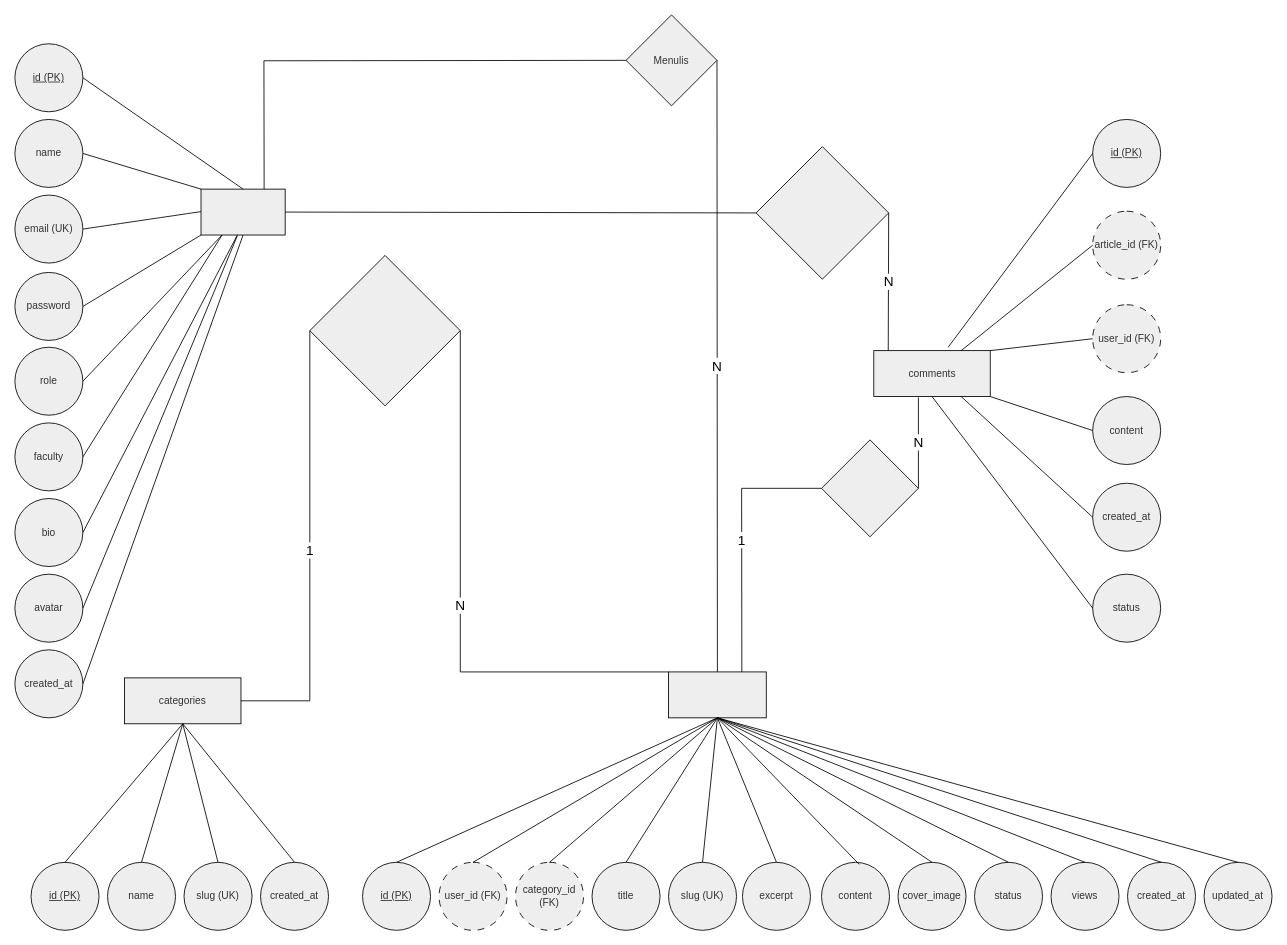
Image size: 1287x945. Some labels were removed from this diagram. Each missing label, with the centre of its shape:
articles: point 717,694
Memiliki: point 869,488
Mengelompokkan: point 384,330
Mengomentari: point 822,212
users: point 242,211
